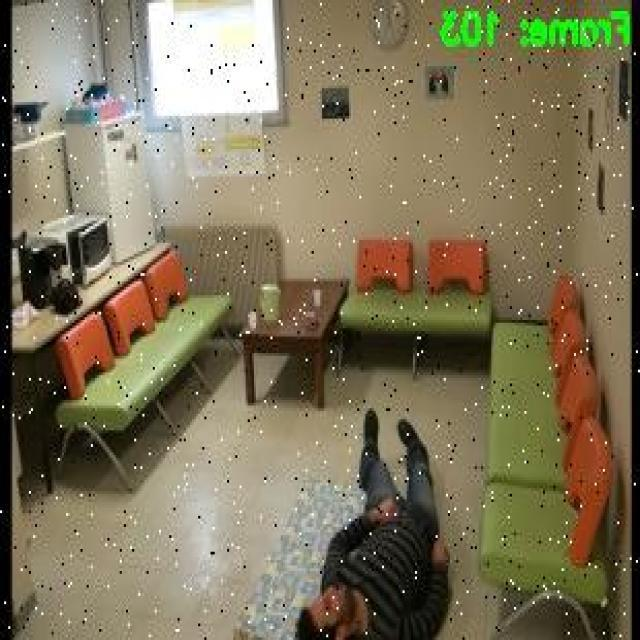fall: (291, 402, 444, 638)
